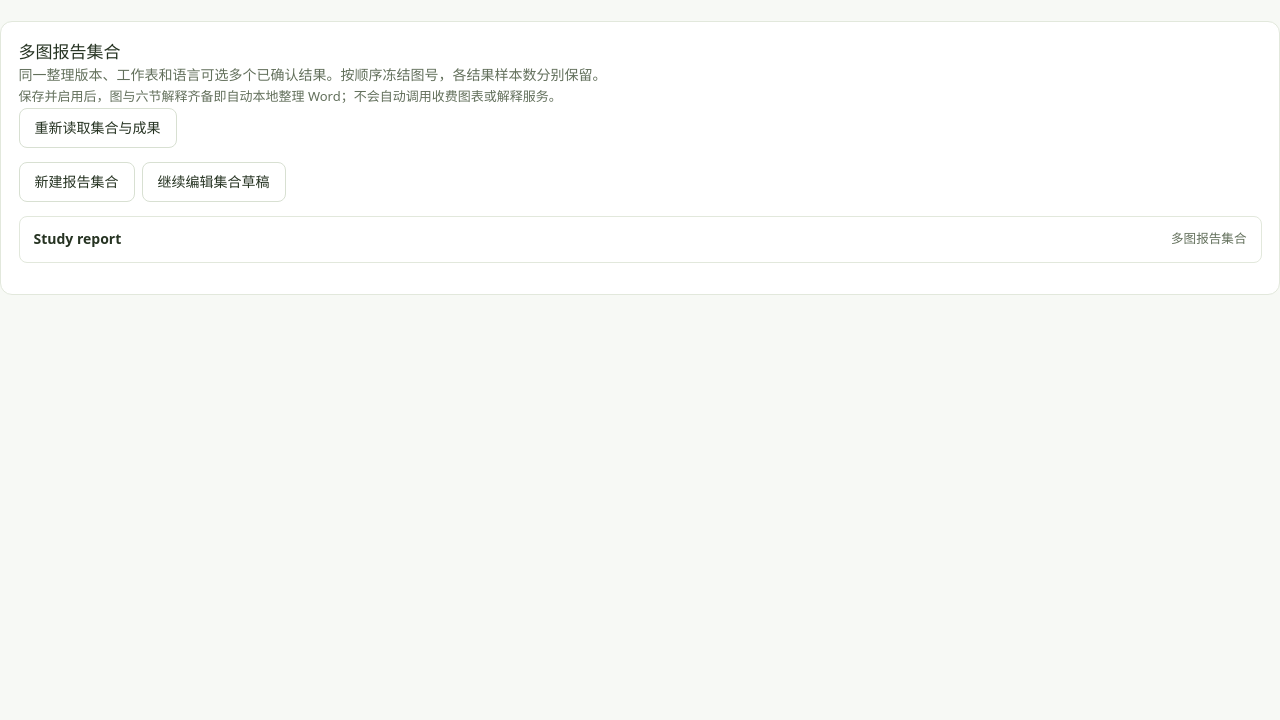
Test: collection selection stays on its fixed version after reload and returning through the list
Click the button with aria-label "打开报告集合 Study report".
click(77, 239)  # box [18, 216, 1262, 263]
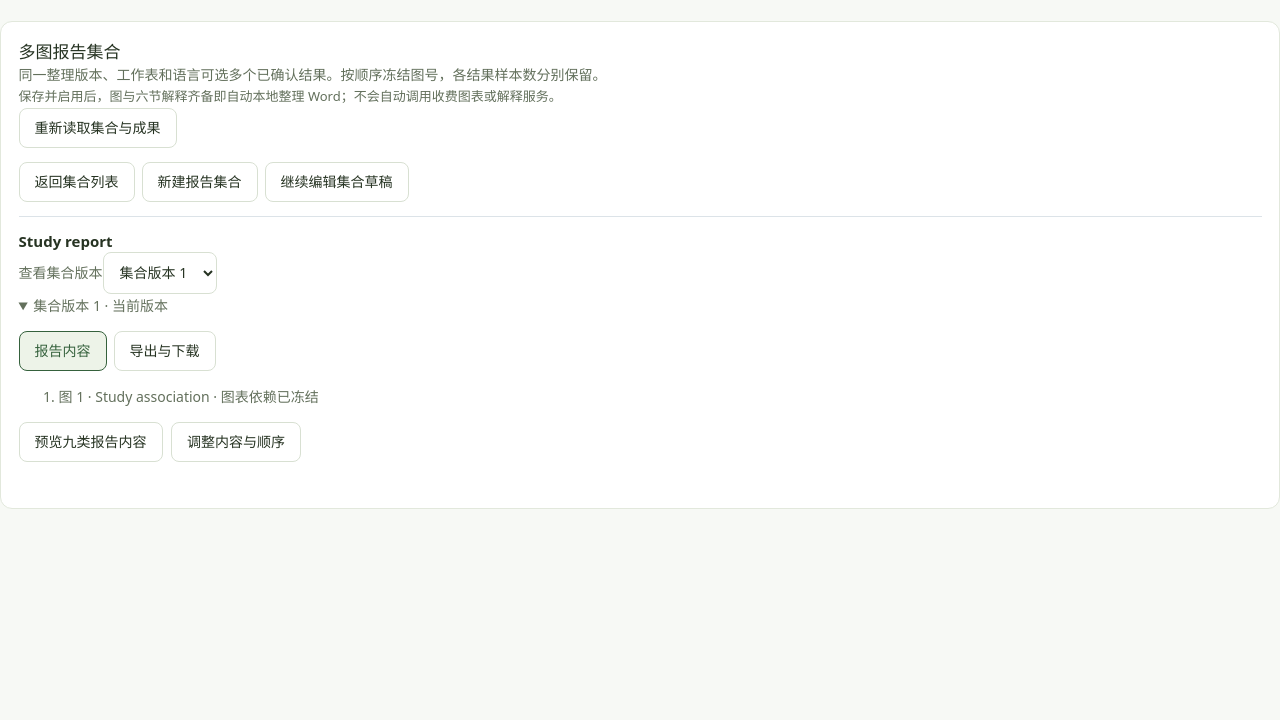
Click the button "重新读取集合与成果".
click(98, 128)  # box [18, 108, 176, 148]
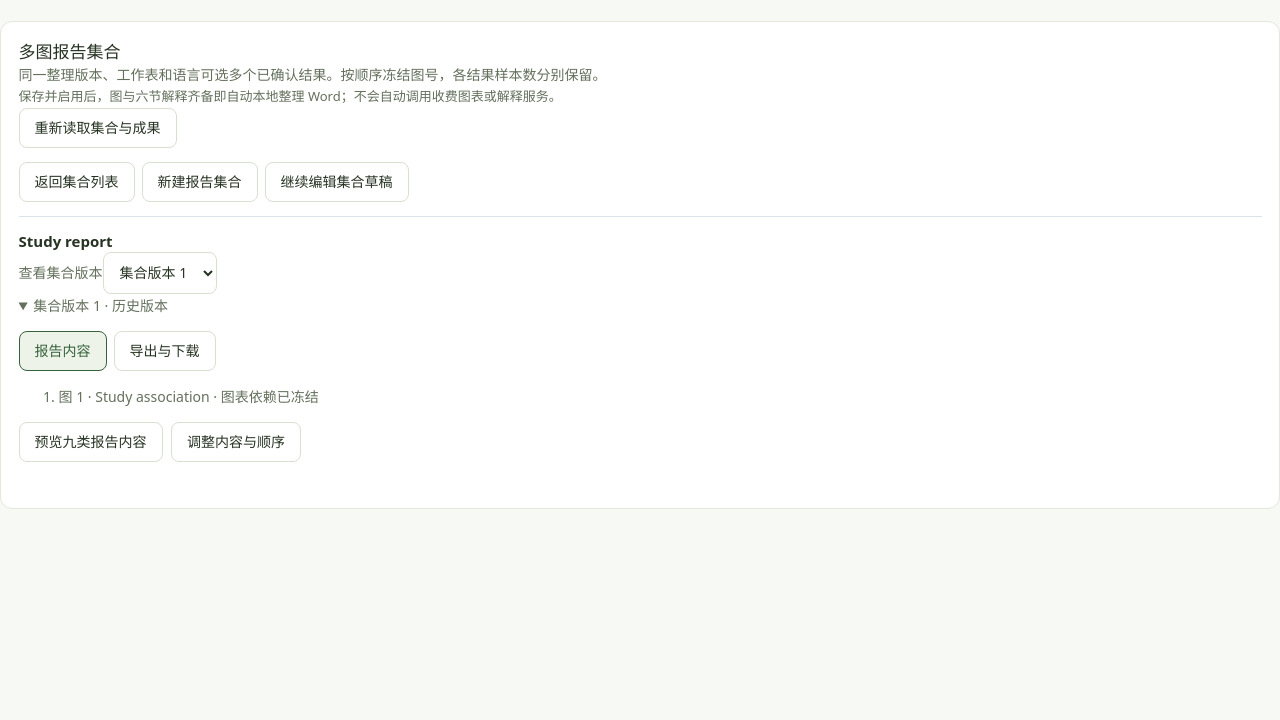
Result: the dropdown labelled "查看集合版本" shows "集合版本 1" at [102, 252, 216, 294]
Result: the heading "集合版本 1 · 历史版本" is shown at [33, 296, 168, 315]
Click the button "返回集合列表".
click(76, 182)  # box [18, 162, 134, 202]
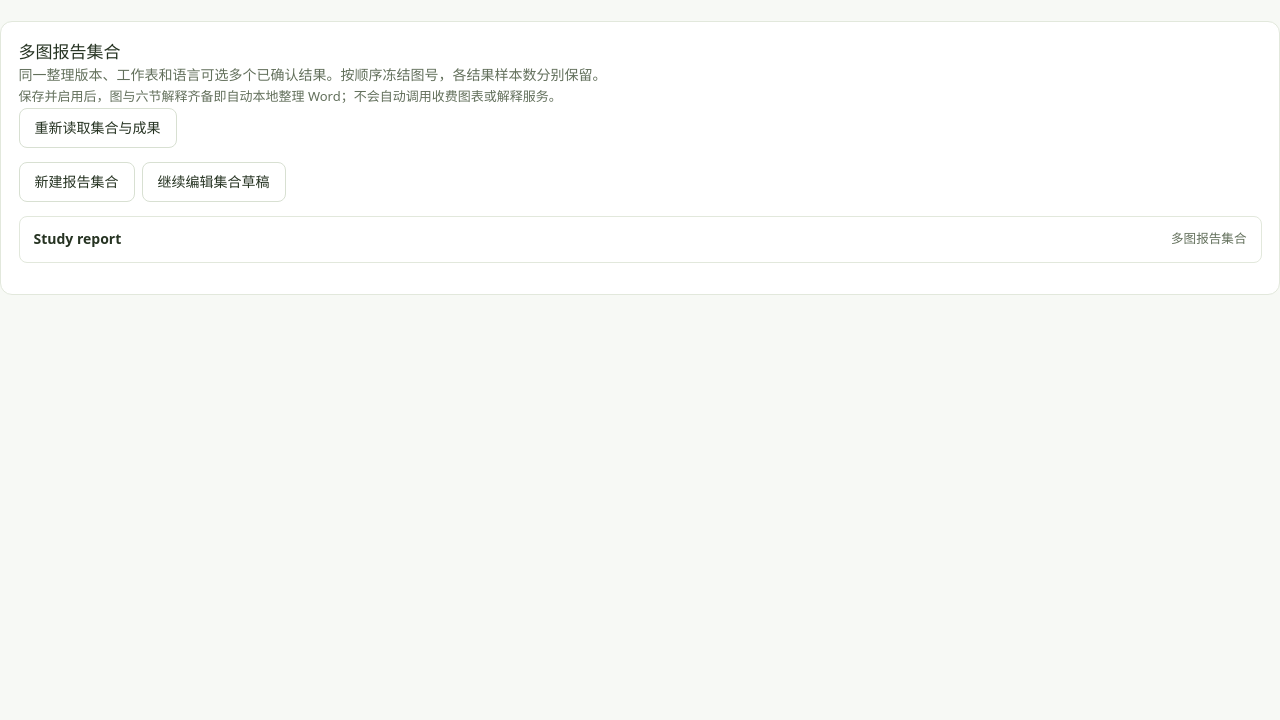
Click the button with aria-label "打开报告集合 Study report".
click(77, 239)  # box [18, 216, 1262, 263]
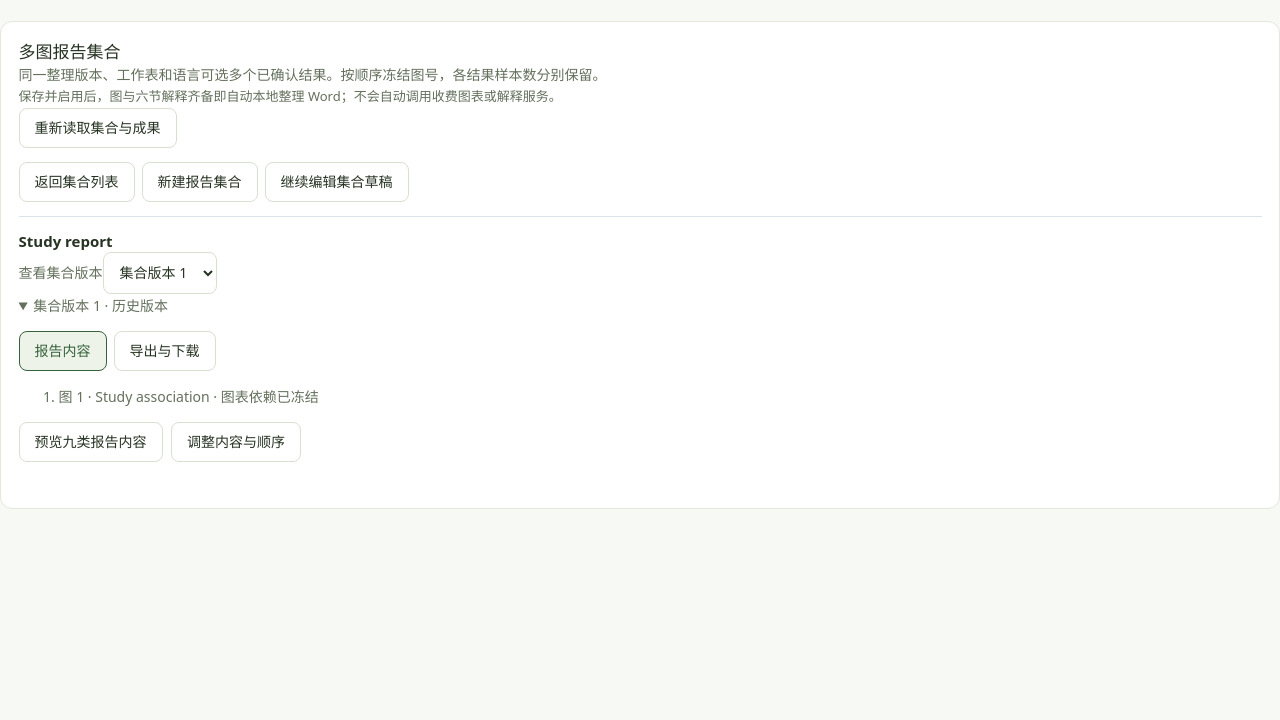
Result: the dropdown labelled "查看集合版本" shows "集合版本 1" at [102, 252, 216, 294]
